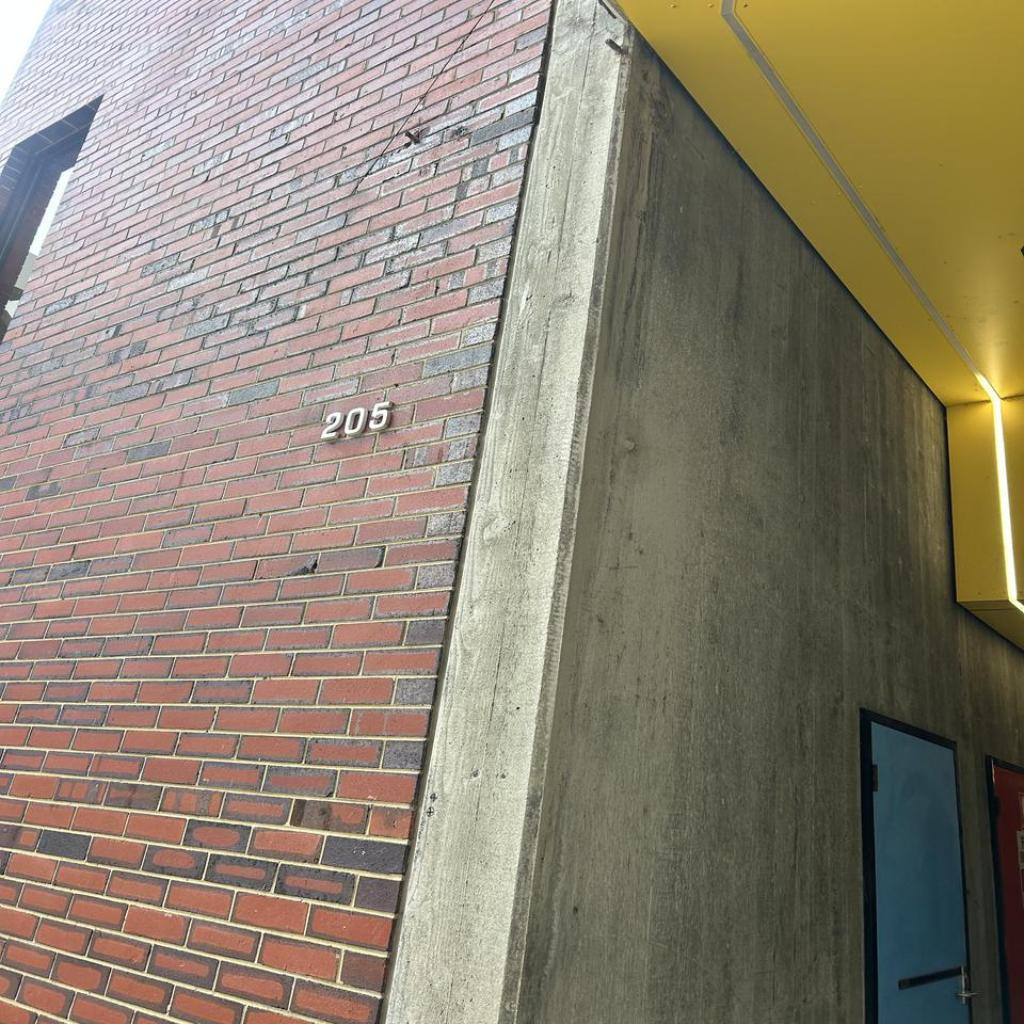BuildingCodes: (316, 398, 400, 444)
